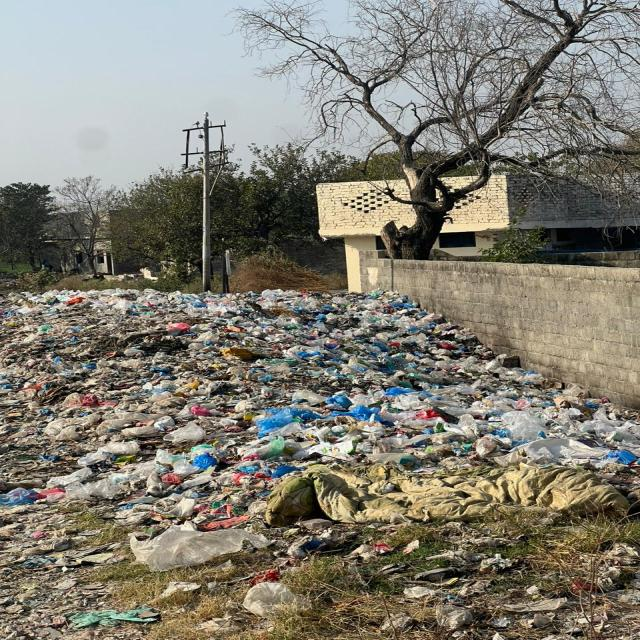garbage: (5, 288, 622, 632)
